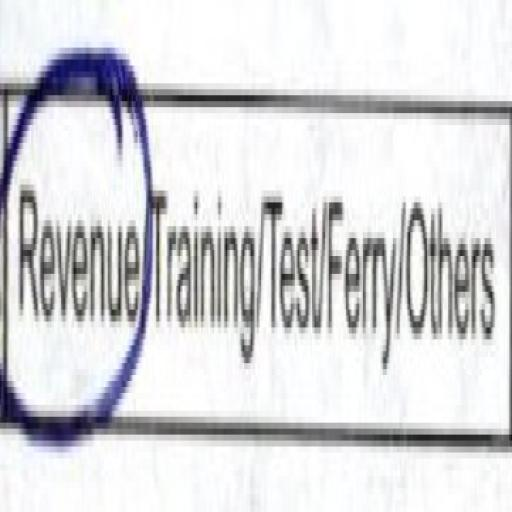check: (0, 23, 152, 464)
